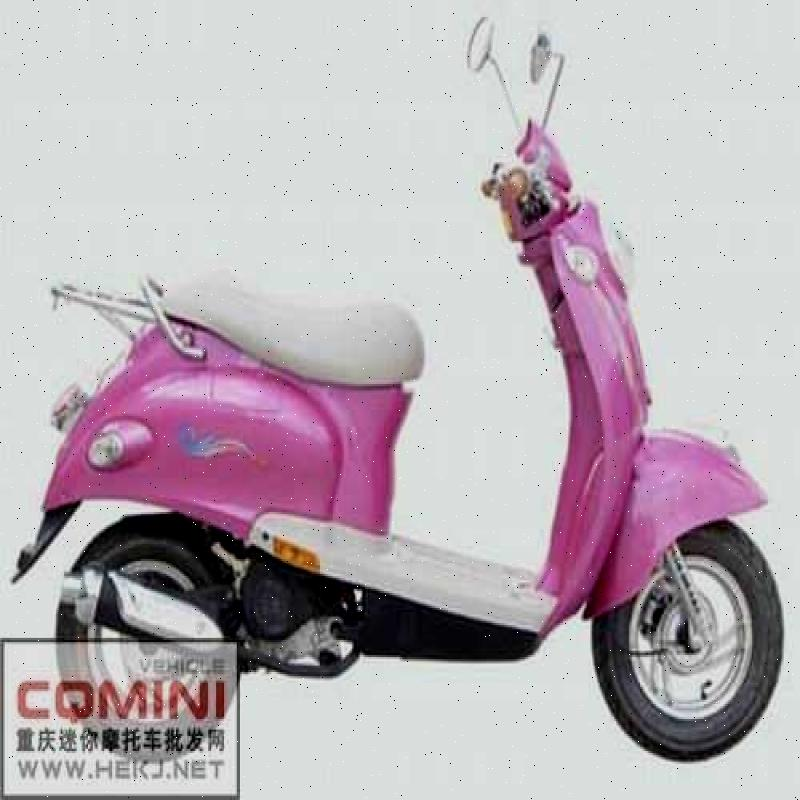bike: (27, 22, 785, 756)
